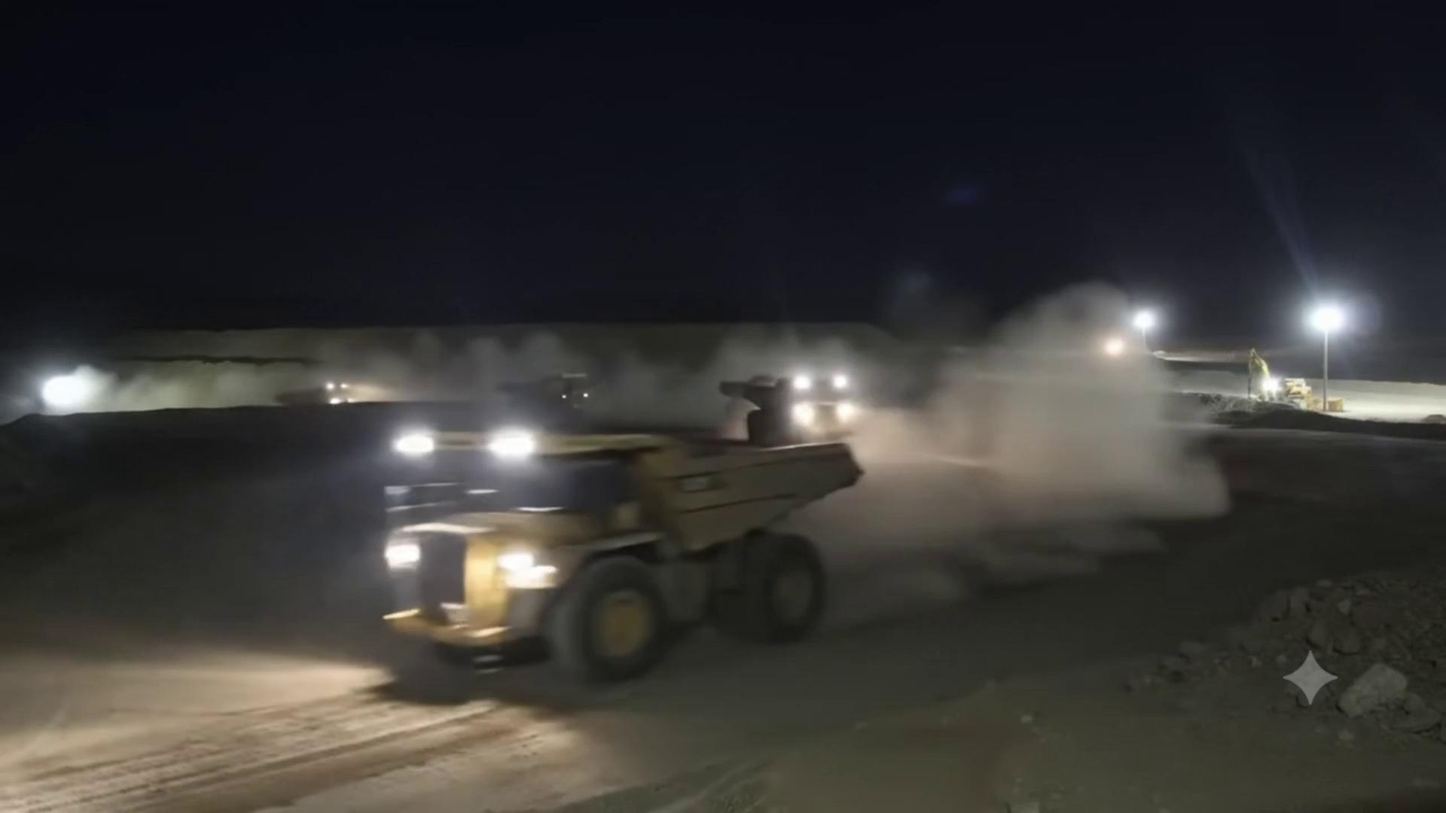CAEX: (382, 431, 864, 686), (734, 370, 860, 440), (499, 372, 590, 420), (277, 381, 356, 404)
